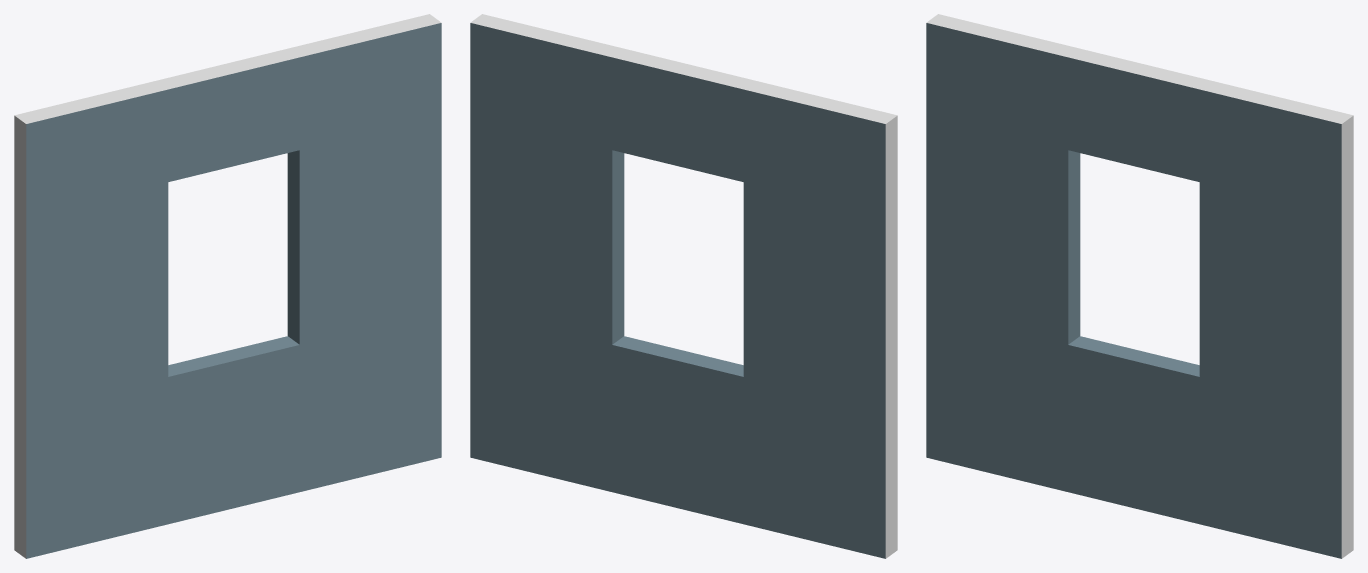
Rendered from wall_068.fbx.
The picture shows the model from 3 angles, left to right: view 1: azimuth 30°, elevation 25°; view 2: azimuth 150°, elevation 25°; view 3: azimuth 330°, elevation 25°; orthographic projection.
Visible parts, largest first — view 1: wall_068; view 2: wall_068; view 3: wall_068.
Part boxes in pixels (x1,y1,x2,y2): wall_068: (14,14,441,558); wall_068: (470,14,897,558); wall_068: (926,14,1353,558).
Size of the model in its own units: 400 by 20 by 400.
